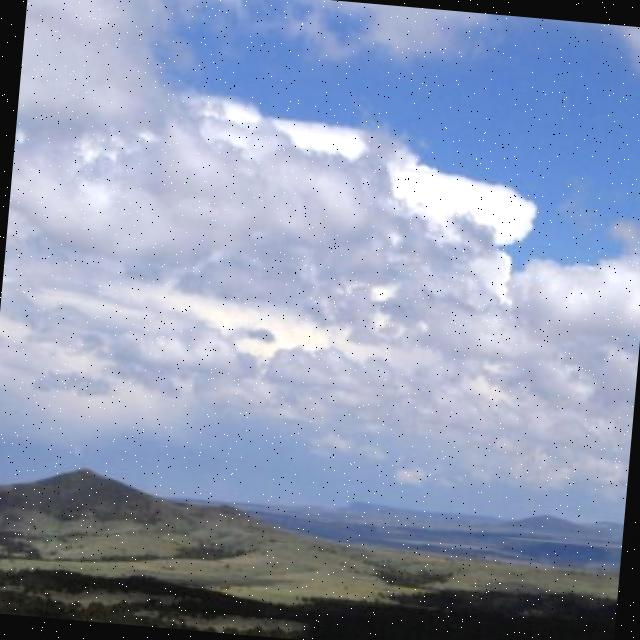Ci: (1, 1, 640, 476)
